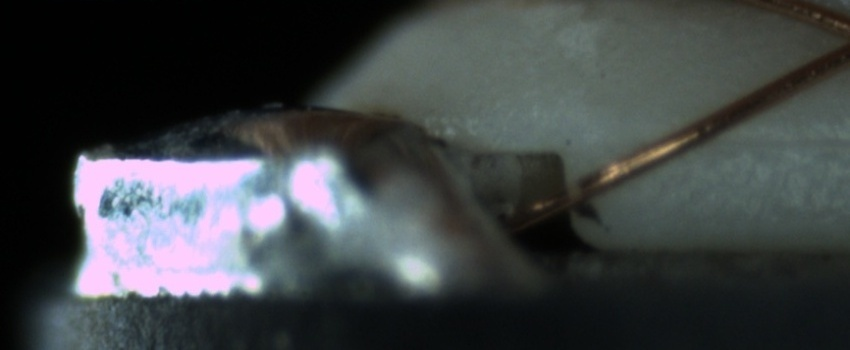CL: (807, 2, 850, 72)
DL: (694, 109, 850, 170)
